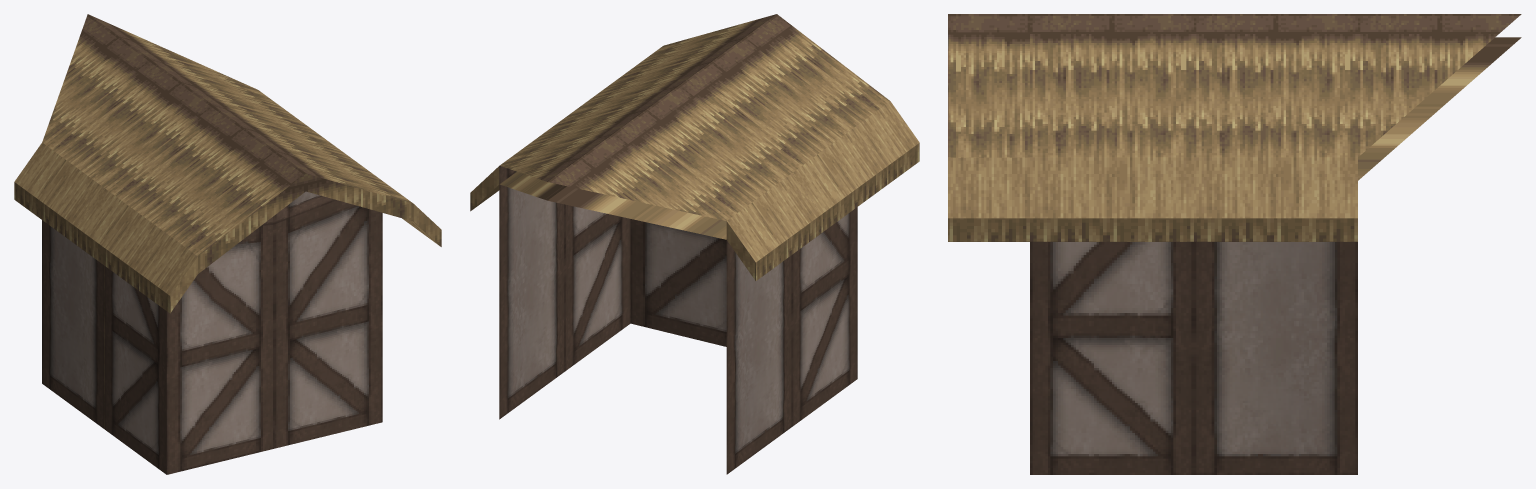
File: roof_straw_dormer_window.glb
3 renders of one model, left to right at view 1: azimuth 30°, elevation 25°; view 2: azimuth 150°, elevation 25°; view 3: azimuth 270°, elevation 25°, orthographic. The views are drawn at different scales.
Visible parts, largest first — view 1: roof_straw_dormer_window; view 2: roof_straw_dormer_window; view 3: roof_straw_dormer_window.
Boxes of the visible parts, x1,y1,x2,y2 form: roof_straw_dormer_window: [14, 14, 441, 474]; roof_straw_dormer_window: [470, 14, 919, 474]; roof_straw_dormer_window: [948, 14, 1521, 474].
Bounding box in the file's own units: 1.85 × 1.93 × 2.57.
Materials: 1 (1 with a texture image).
